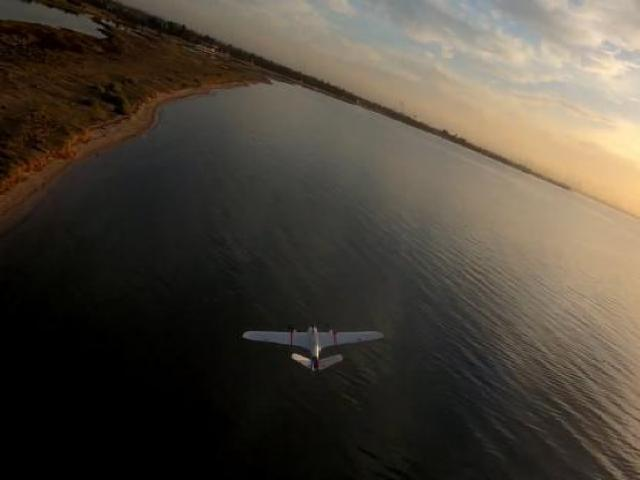uav: (238, 312, 387, 372)
